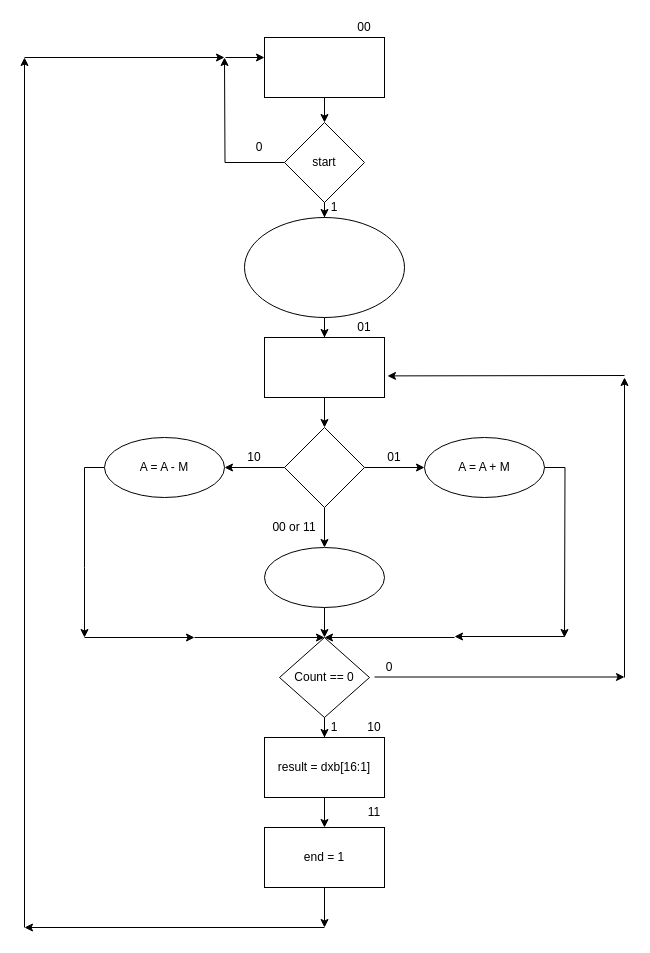
Some shapes in this 650 by 953 pixel diagram are drawn without their labels. The centre of each missing label's shape, as x and y in pixels:
A= 0 Q0 = 0 M = Multiplicand Q = Multiplier Count = n: point 324,267
Arithmetic Shift To Right Count = Count - 1: point 324,577
dxb[1:0]: point 324,467
